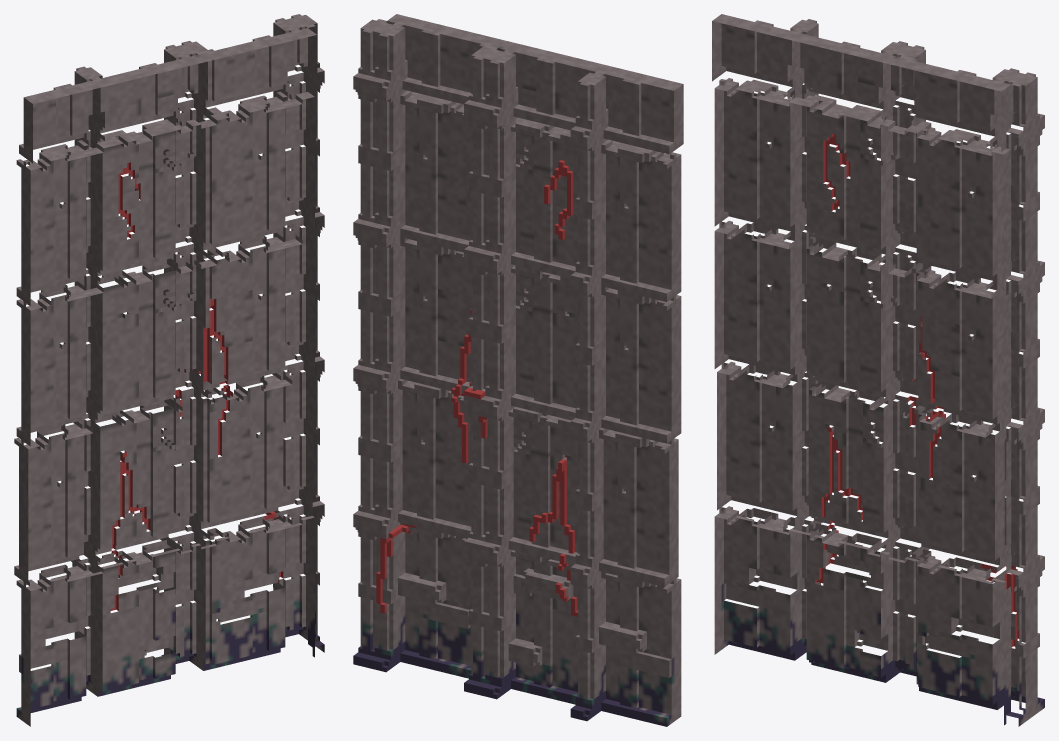
The model's file is deathGate_door_right_state_3.fbx.
3 views of the same model, side by side, from view 1: azimuth 30°, elevation 25°; view 2: azimuth 150°, elevation 25°; view 3: azimuth 330°, elevation 25° (orthographic).
Parts seen in each view (by area): view 1: deathGate_door_state_7; view 2: deathGate_door_state_7; view 3: deathGate_door_state_7.
Boxes of the visible parts, x1=… form: deathGate_door_state_7: x1=14, y1=14, x2=324, y2=726; deathGate_door_state_7: x1=353, y1=14, x2=683, y2=726; deathGate_door_state_7: x1=712, y1=14, x2=1044, y2=726.
Size of the model in its own units: 73 by 147 by 13.
1 material, 1 textured.
